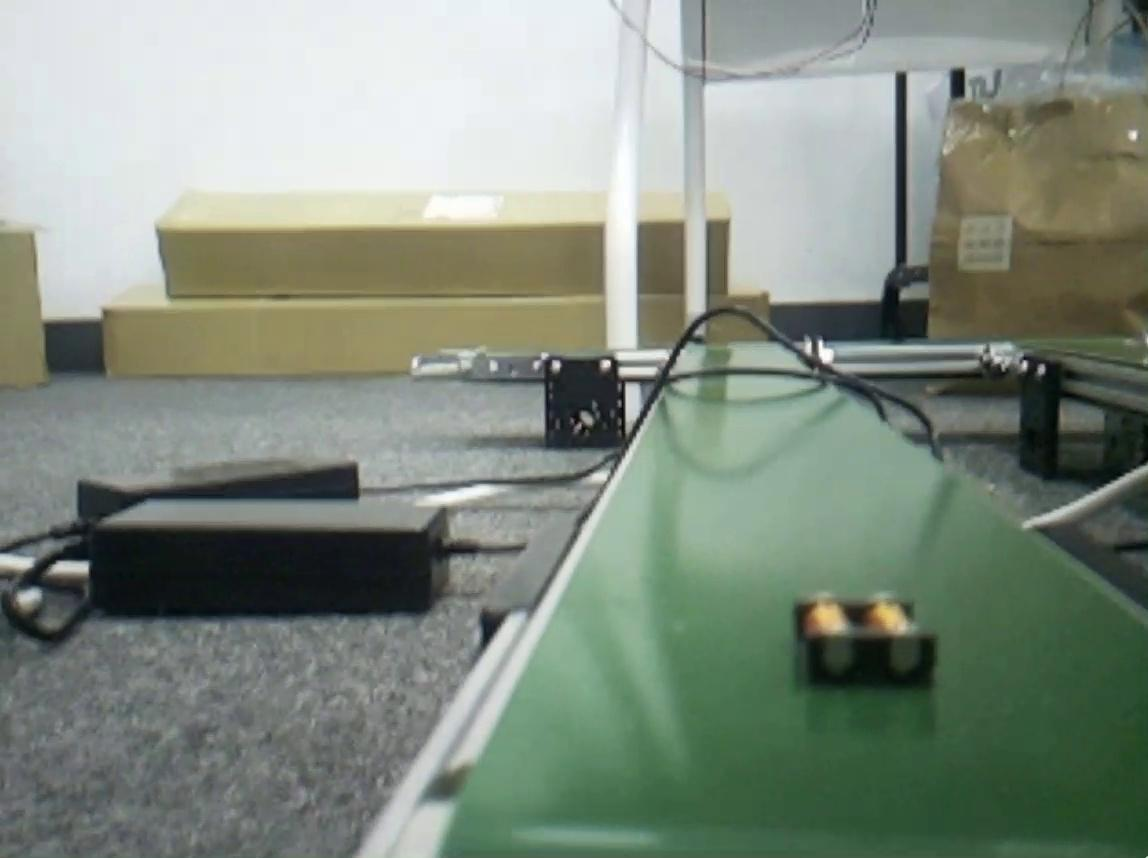inductor: (800, 592, 932, 683)
